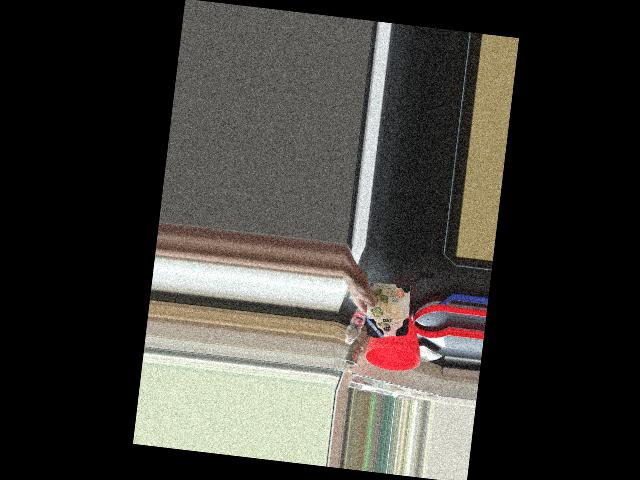cheese: (353, 283, 412, 341)
